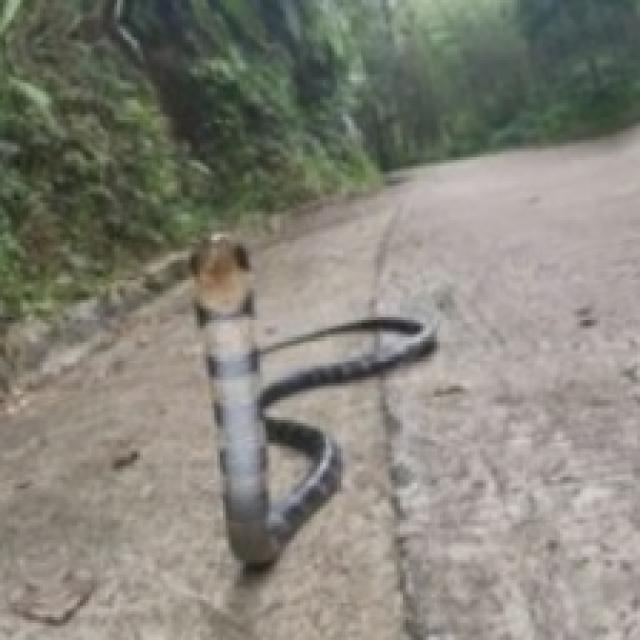king cobra: (191, 234, 434, 569)
